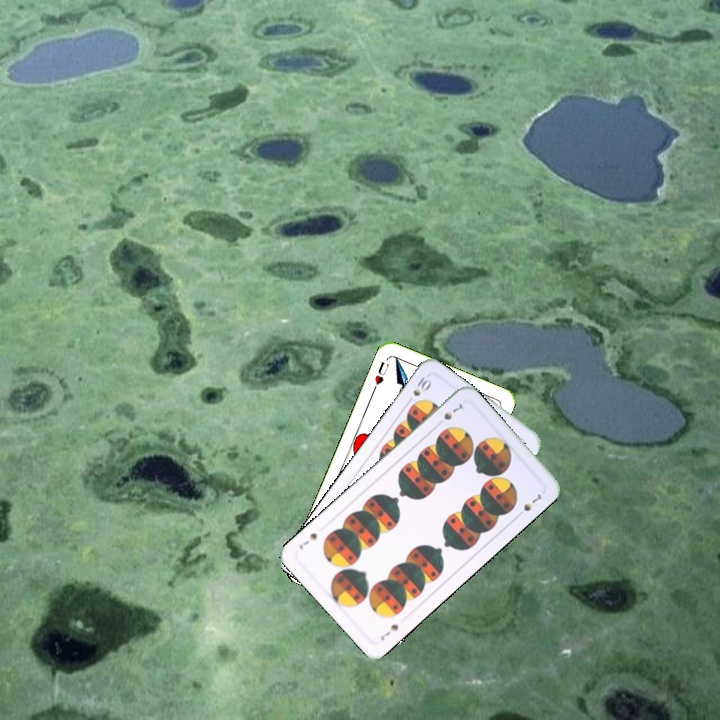HU: (369, 357, 392, 394)
S10: (403, 373, 434, 407)
S7: (433, 399, 465, 429), (376, 620, 401, 643)
